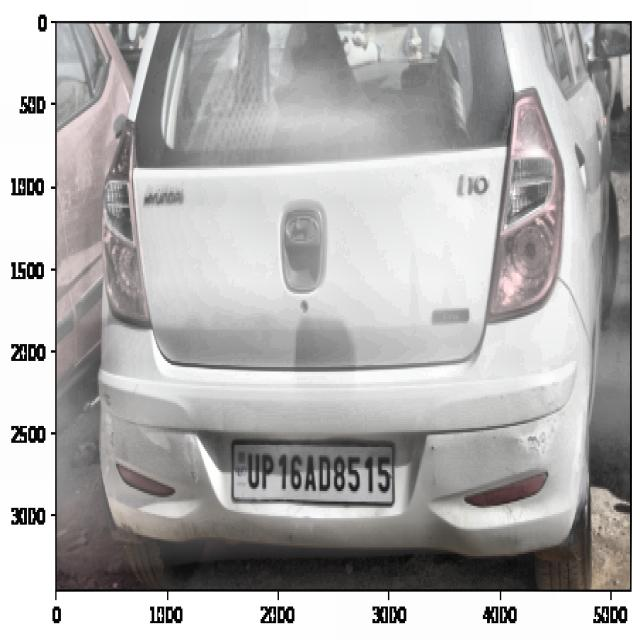license_plate: (244, 444, 395, 509)
